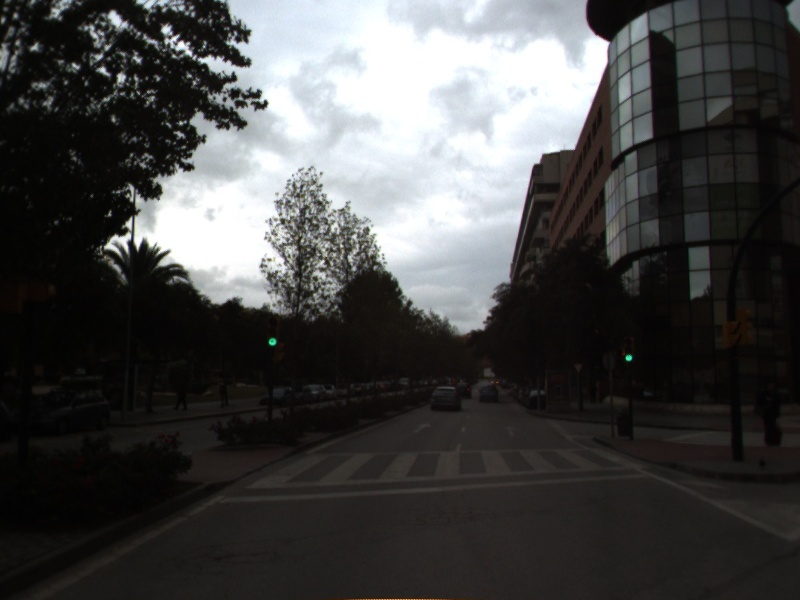STRAIGHT: (411, 421, 434, 435), (501, 425, 521, 438)
